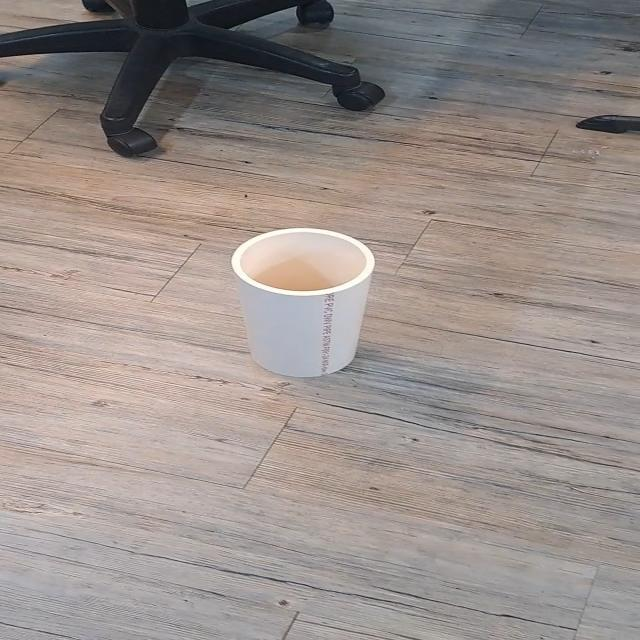CORAL: (202, 210, 419, 384)
